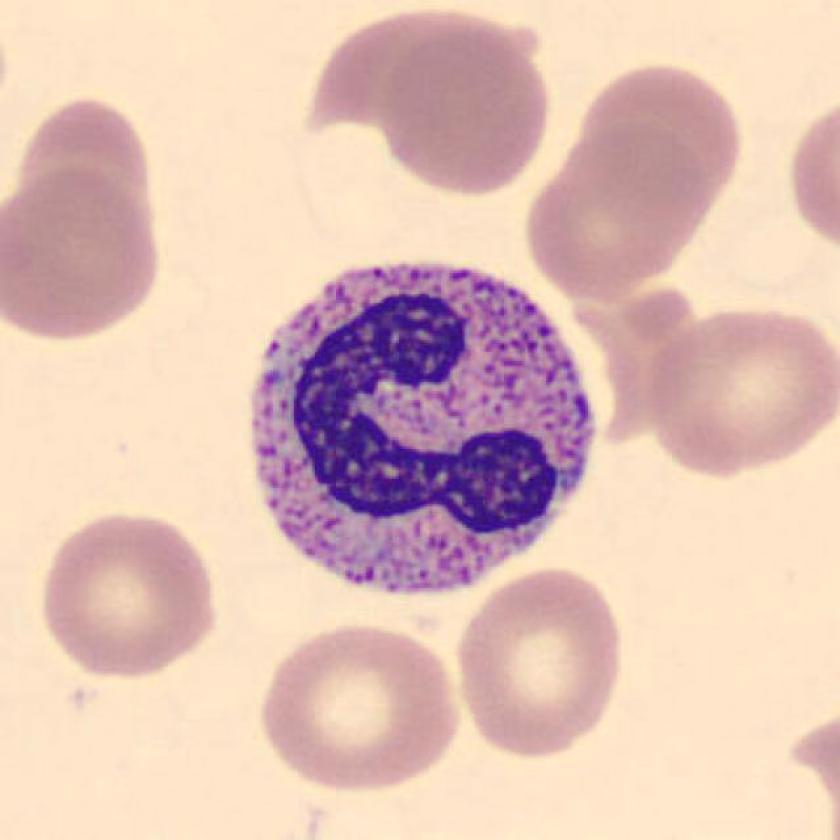neutrophil: (252, 262, 592, 588)
